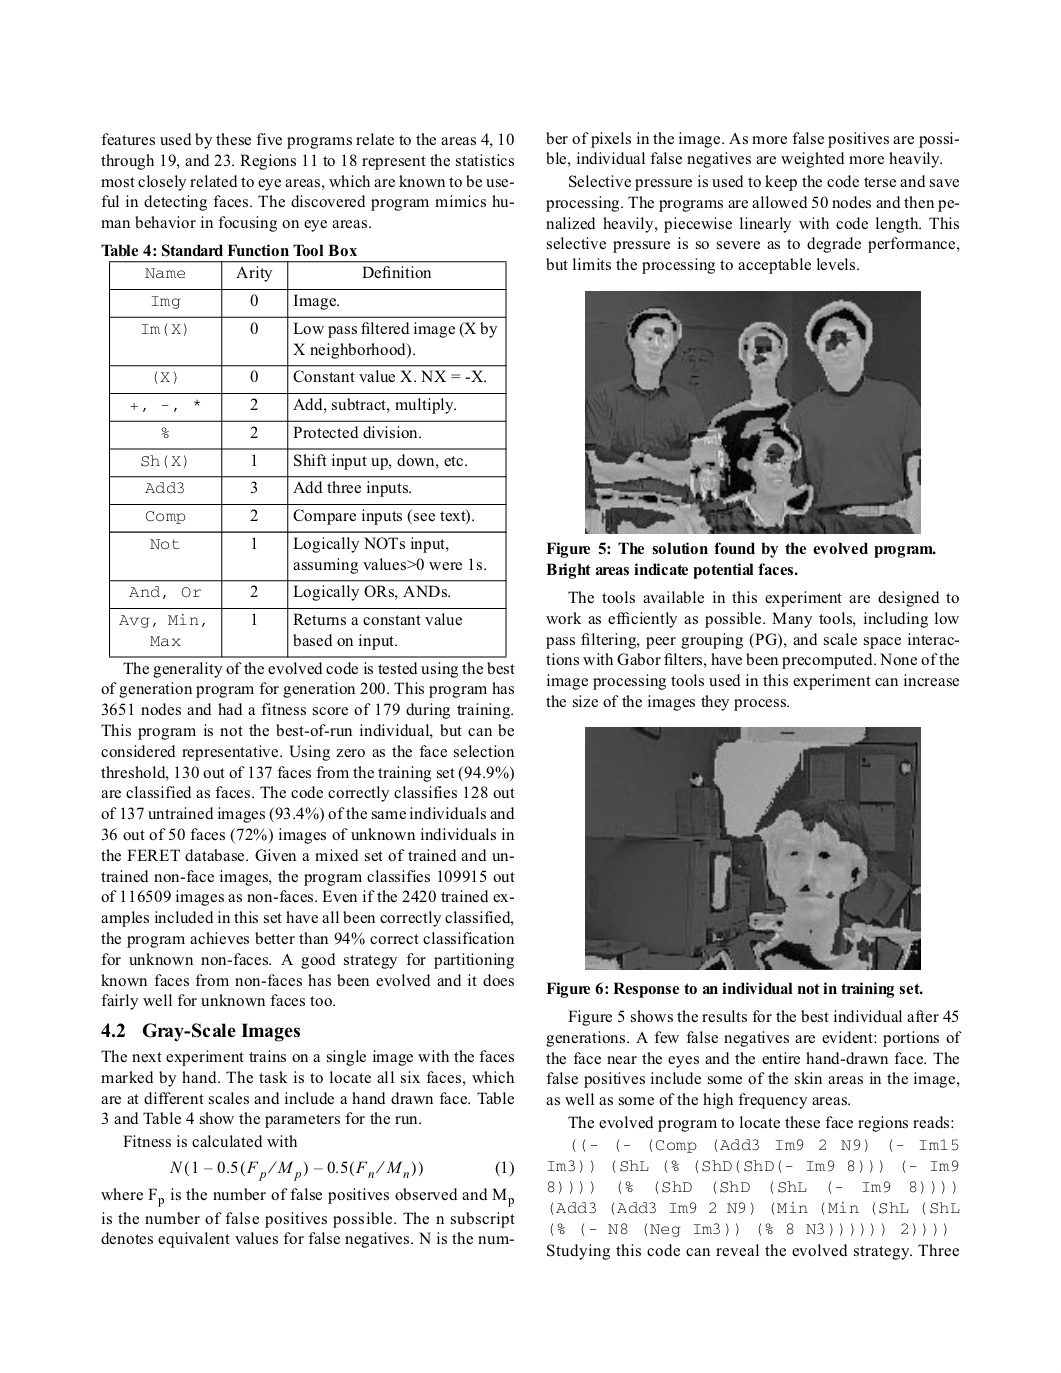Table: (109, 260, 506, 658)
figure: (585, 290, 919, 534), (585, 726, 919, 970)
formula: (169, 1160, 513, 1181)
